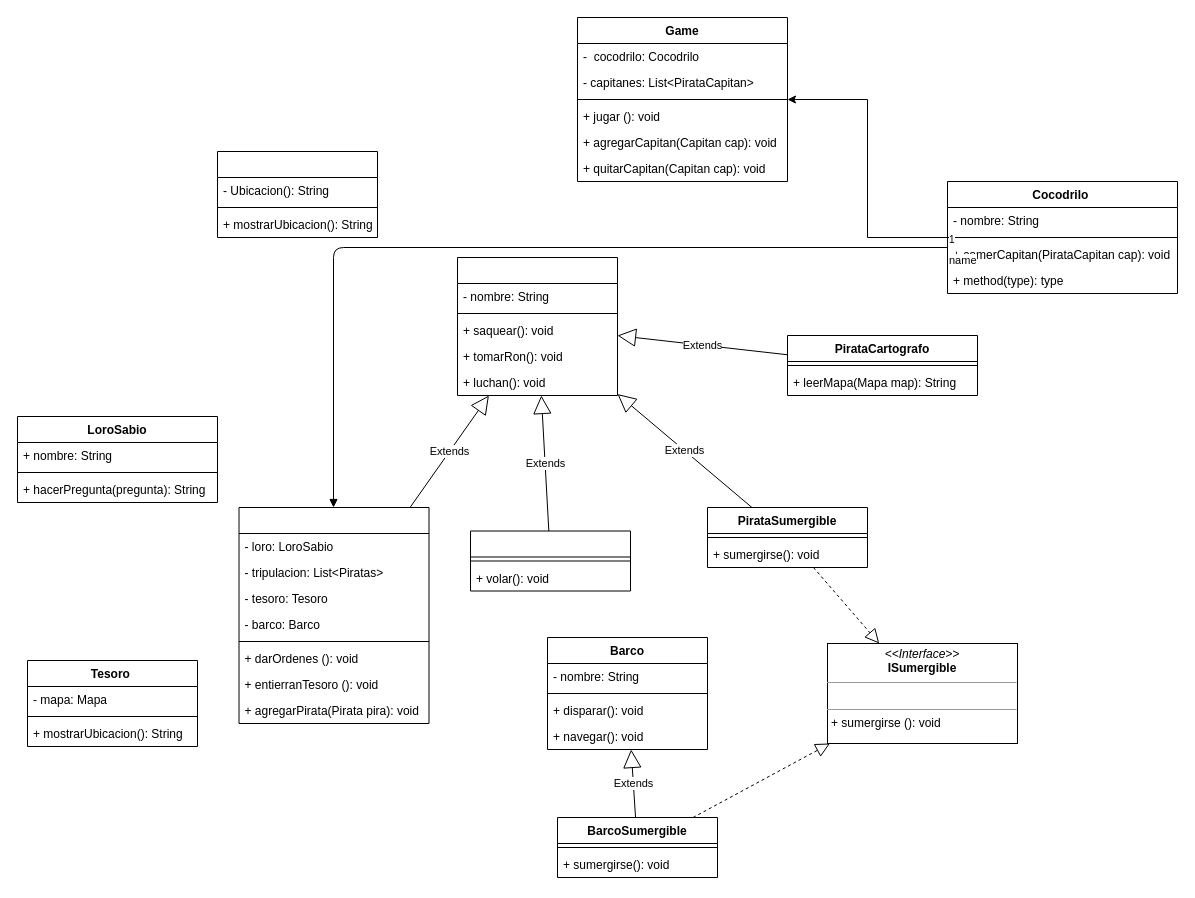
Image size: 1195x898. Some labels were removed from this diagram. Here are the shapes that lost their labels. From the top down, the box of each, then its label:
(216, 150, 378, 238): Mapa
(456, 256, 618, 396): Pirata
(470, 530, 630, 591): PirataVolador
(238, 506, 429, 724): PirataCapitan
